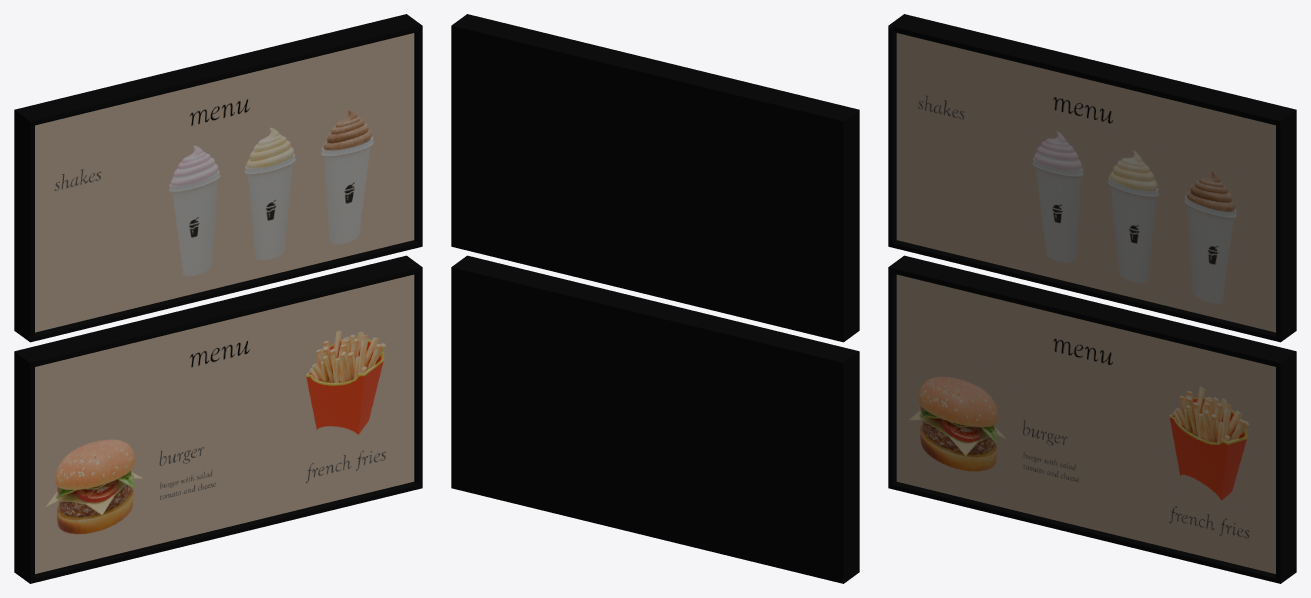
Rendered from inside menu bord.fbx.
3 views of the same model, side by side, from view 1: azimuth 30°, elevation 25°; view 2: azimuth 150°, elevation 25°; view 3: azimuth 330°, elevation 25° (orthographic).
Parts seen in each view (by area): view 1: single board.001, single board.002; view 2: single board.002, single board.001; view 3: single board.002, single board.001.
Part boxes in pixels (bbox=[...]): single board.001: bbox=[14, 255, 422, 583]; single board.002: bbox=[14, 14, 422, 342]; single board.002: bbox=[451, 14, 859, 342]; single board.001: bbox=[451, 255, 859, 583]; single board.002: bbox=[888, 14, 1296, 342]; single board.001: bbox=[888, 255, 1296, 583].
Size of the model in its own units: 170 by 192 by 12.
